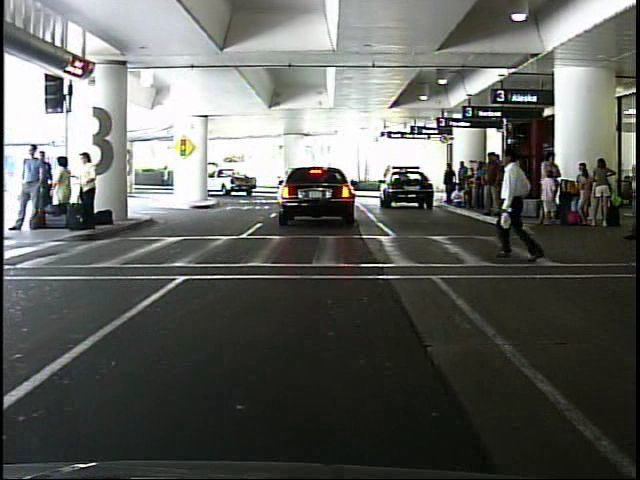person: (493, 138, 552, 269), (16, 140, 52, 237), (82, 147, 104, 232), (53, 152, 78, 226), (441, 162, 458, 205), (159, 162, 173, 190)
